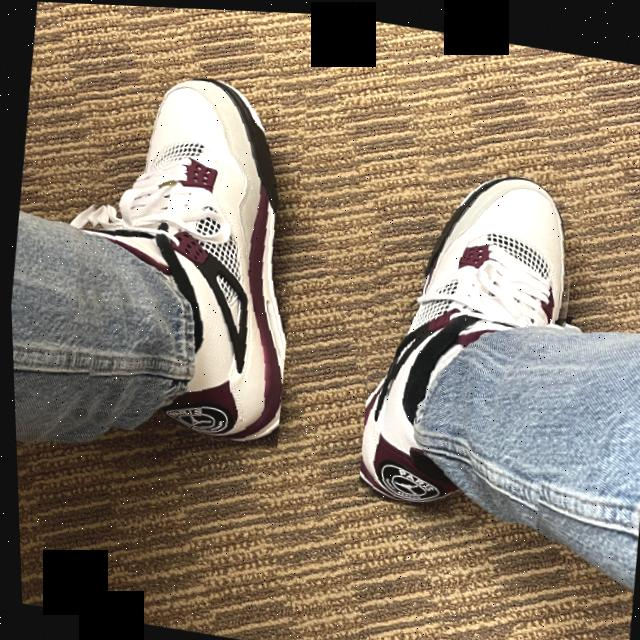shoe: (52, 57, 317, 454), (343, 144, 594, 526)
